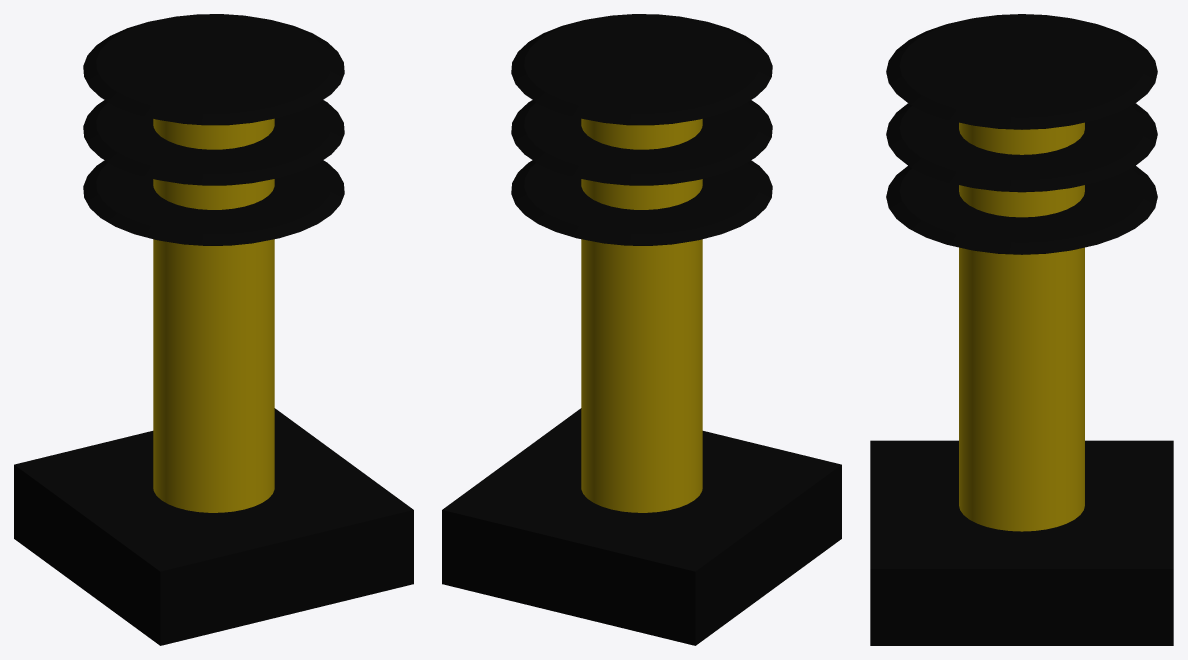
The model's file is Spike.fbx.
3 renders of one model, left to right at view 1: azimuth 30°, elevation 25°; view 2: azimuth 150°, elevation 25°; view 3: azimuth 270°, elevation 25°, orthographic. The views are drawn at different scales.
Visible parts, largest first — view 1: Pole; view 2: Pole; view 3: Pole.
Part boxes in pixels (x1,y1,x2,y2): Pole: (14, 14, 413, 645); Pole: (442, 14, 841, 645); Pole: (870, 14, 1173, 645).
Bounding box in the file's own units: 0.44 × 0.8257 × 0.44.
